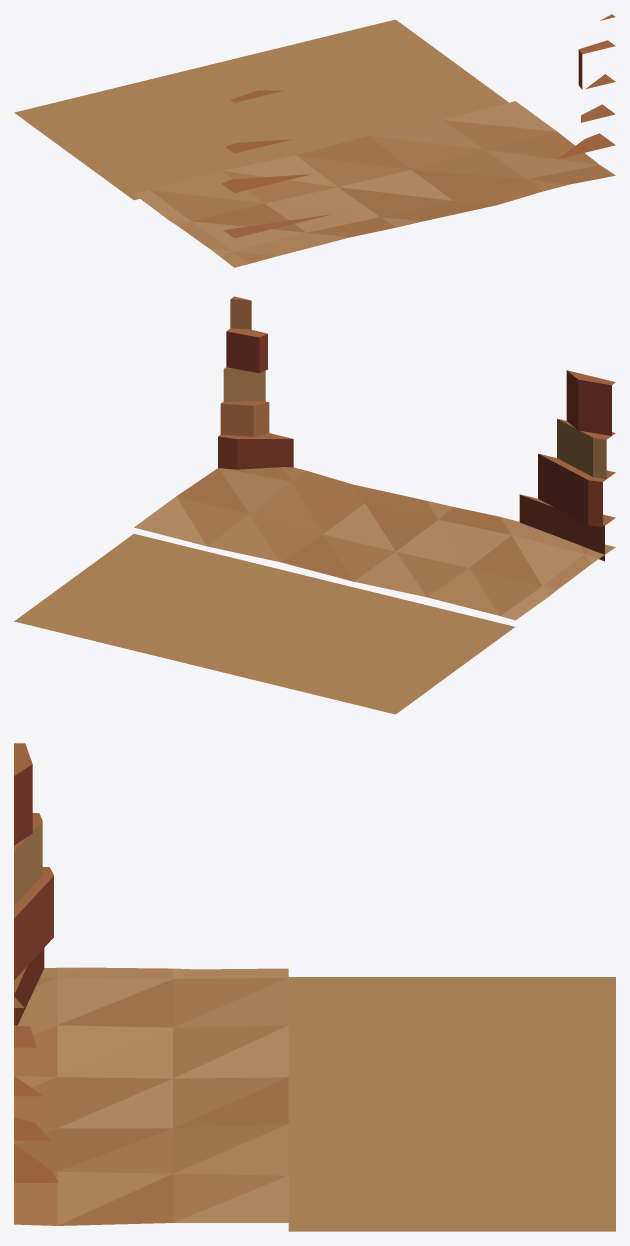
The picture shows the model from 3 angles, top to bottom: view 1: azimuth 30°, elevation 25°; view 2: azimuth 150°, elevation 25°; view 3: azimuth 270°, elevation 25°; orthographic projection. The views are drawn at different scales.
Visible parts, largest first — view 1: baked; view 2: baked; view 3: baked.
Part boxes in pixels (x1,y1,x2,y2): baked: (14, 14, 615, 267); baked: (14, 296, 615, 714); baked: (14, 743, 615, 1231).
Bounding box in the file's own units: 62.5 × 26.77 × 62.5.
